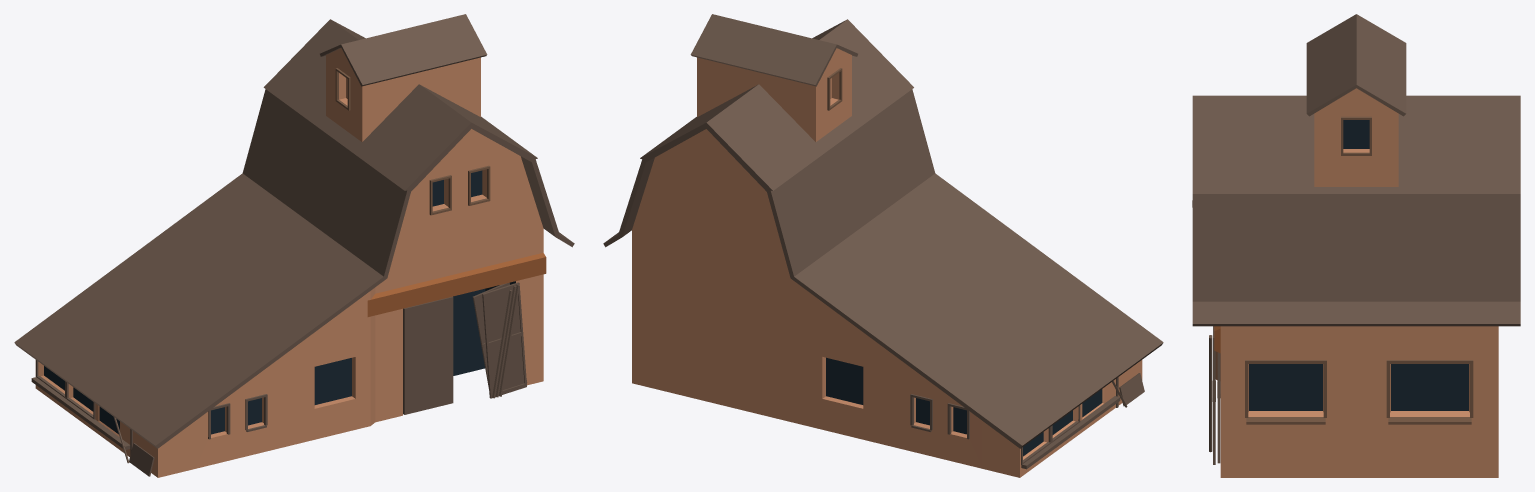
File: Cottage_8.fbx
The picture shows the model from 3 angles, left to right: view 1: azimuth 30°, elevation 25°; view 2: azimuth 150°, elevation 25°; view 3: azimuth 270°, elevation 25°; orthographic projection. The views are drawn at different scales.
Visible parts, largest first — view 1: base_roof, outwall, front_door, rooftop_wall, rooftop_roof, window_frame, front_ob, left_ob; view 2: base_roof, outwall, rooftop_wall, rooftop_roof, window_frame; view 3: base_roof, outwall, rooftop_roof, rooftop_wall, window_frame, front_door, front_ob, rooftop_window.
Boxes of the visible parts, x1,y1,x2,y2 form: base_roof: [14, 19, 574, 448]; outwall: [35, 129, 546, 477]; front_door: [403, 282, 527, 414]; rooftop_wall: [326, 48, 480, 141]; rooftop_roof: [320, 14, 487, 86]; window_frame: [31, 165, 490, 449]; front_ob: [492, 284, 519, 398]; left_ob: [113, 417, 154, 476]; base_roof: [603, 19, 1163, 448]; outwall: [632, 129, 1142, 477]; rooftop_wall: [697, 48, 851, 141]; rooftop_roof: [690, 14, 857, 86]; window_frame: [910, 394, 1120, 469]; base_roof: [1192, 95, 1520, 326]; outwall: [1214, 326, 1498, 477]; rooftop_roof: [1306, 14, 1406, 116]; rooftop_wall: [1314, 88, 1398, 186]; window_frame: [1245, 360, 1473, 424]; front_door: [1212, 326, 1220, 464]; front_ob: [1209, 335, 1212, 452]; rooftop_window: [1341, 116, 1371, 155].
Bounding box in the file's own units: 861 × 503 × 651.
